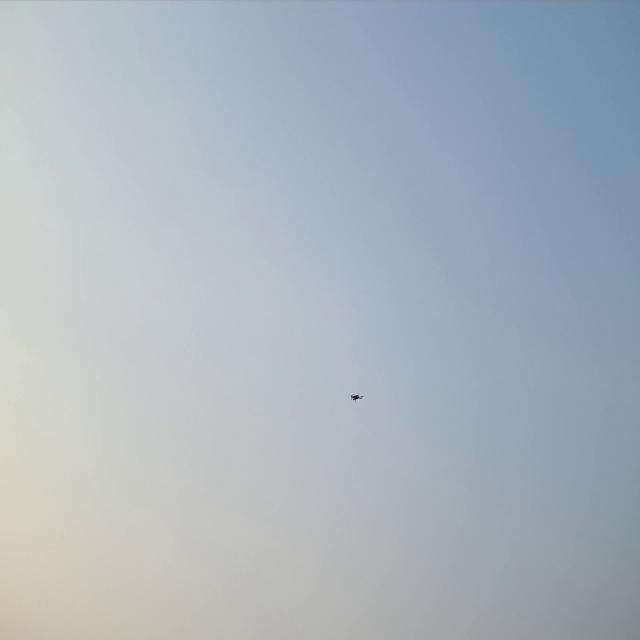UAV: (348, 392, 364, 402)
